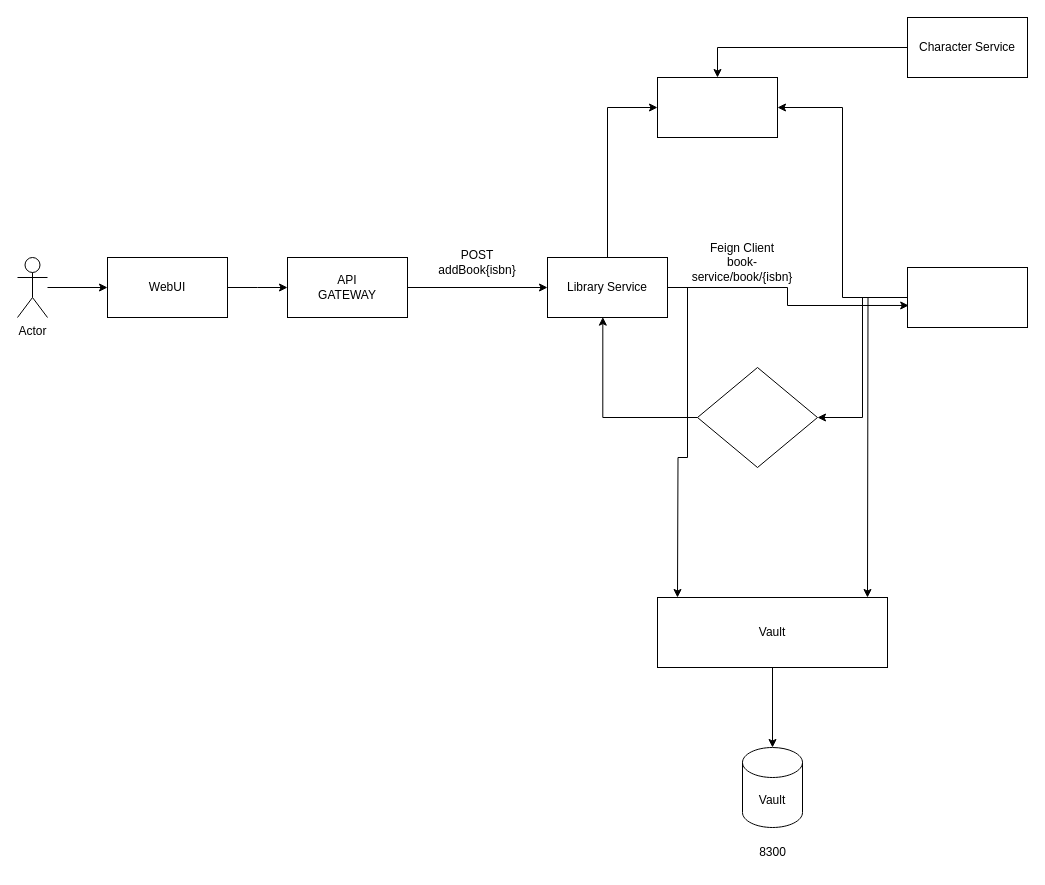
The diagram is 1045 pixels wide and 885 high, and some of its shapes have lost their labels. The shapes that lost their labels are listed below. From the top down, each one's centre as x and y in pixels, then its label:
At (717,107): "Eureka Server".
At (967,297): "Book Service".
At (757,417): "isIsbnExist".
